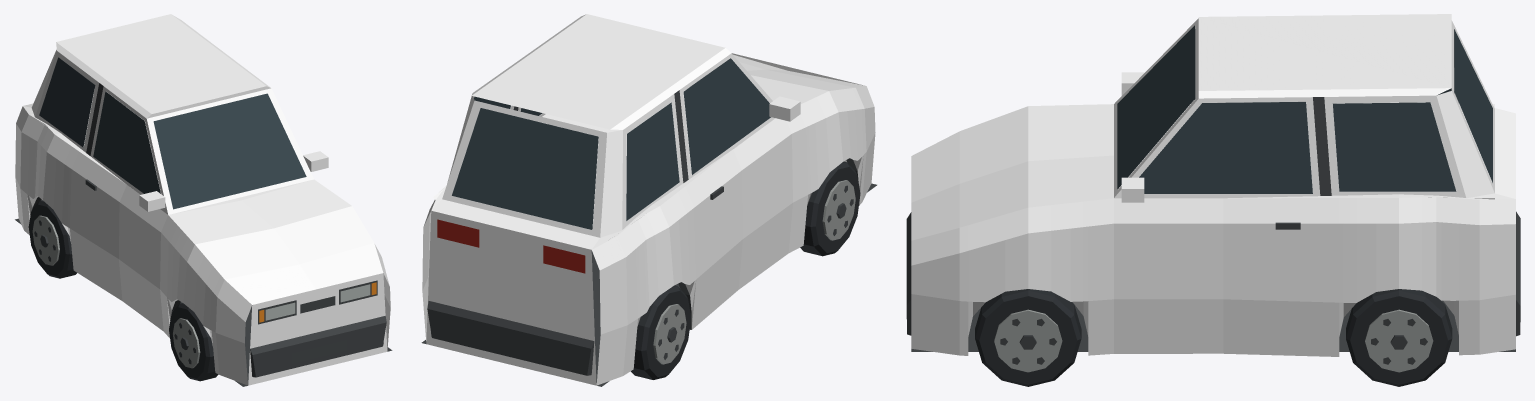
File: mizuchi_hanabi_s.glb
The picture shows the model from 3 angles, left to right: view 1: azimuth 30°, elevation 25°; view 2: azimuth 150°, elevation 25°; view 3: azimuth 270°, elevation 25°; orthographic projection. The views are drawn at different scales.
Parts seen in each view (by area): view 1: mizuchi_hanabi_s; view 2: mizuchi_hanabi_s; view 3: mizuchi_hanabi_s.
Boxes of the visible parts, box(x1,y1,x2,y2) form: mizuchi_hanabi_s: box(15, 14, 392, 386); mizuchi_hanabi_s: box(421, 14, 876, 386); mizuchi_hanabi_s: box(906, 14, 1520, 386).
Size of the model in its own units: 1.45 by 1.64 by 3.23.
Materials: 8 (1 with a texture image).
